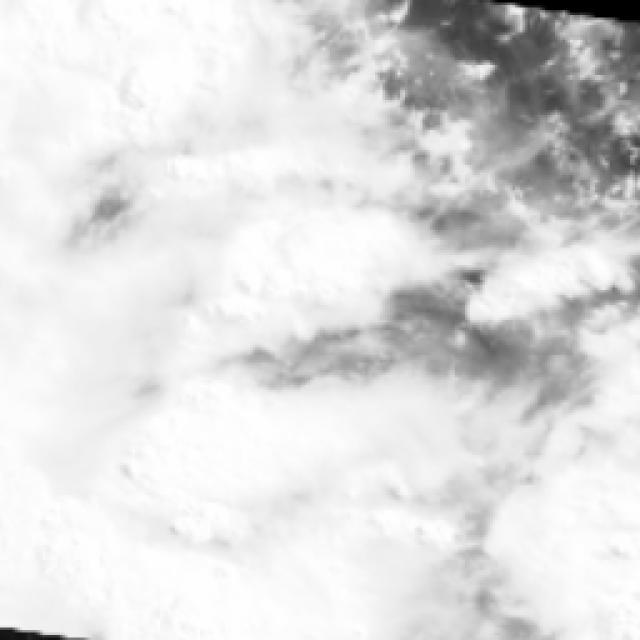CB: (405, 422, 636, 640), (194, 374, 382, 629), (4, 386, 199, 616), (0, 0, 202, 211), (0, 204, 202, 406), (188, 198, 395, 356), (181, 11, 368, 179)
